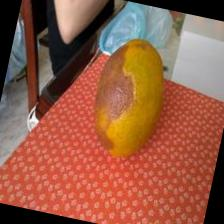Orange Rotten: (76, 30, 186, 176)
